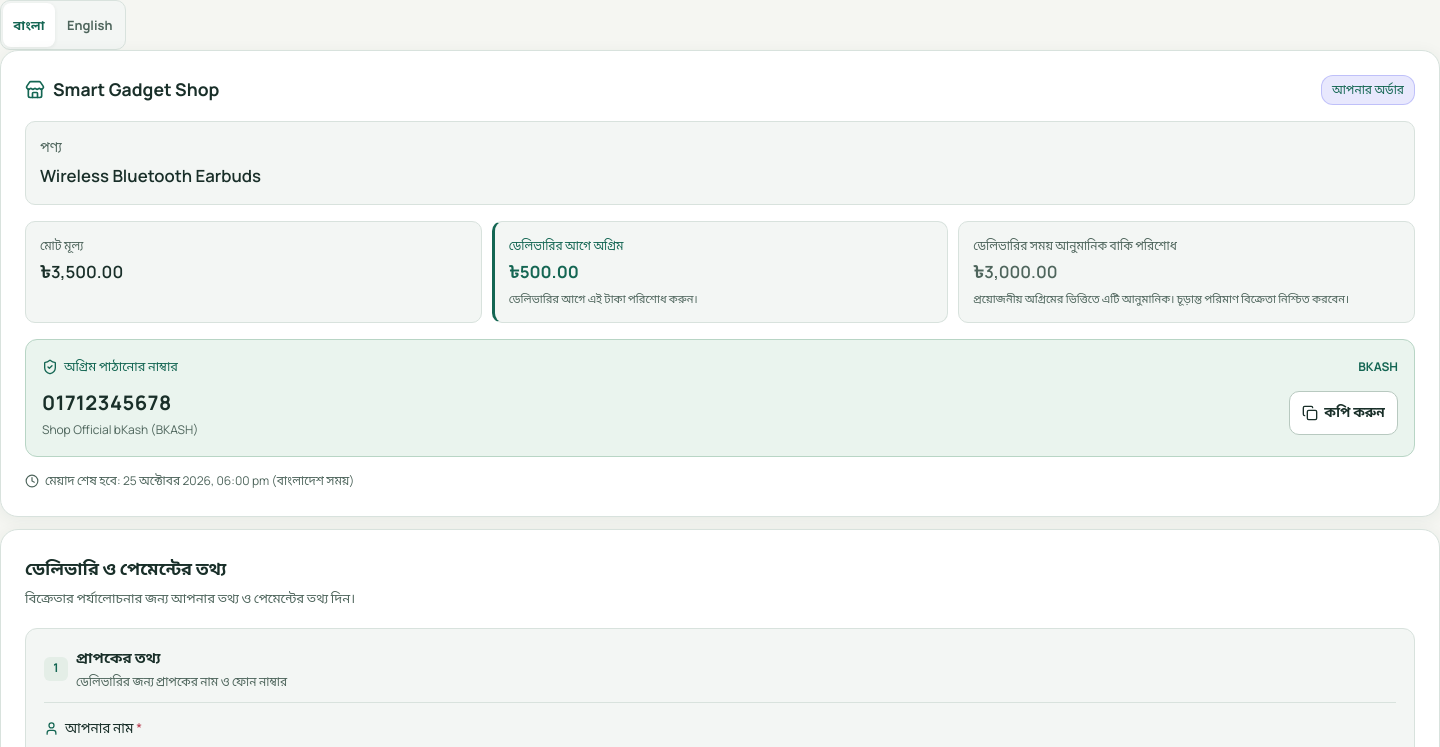
Test: Buyer order summary in Bengali › explains an unavailable copy action in Bengali
The image size is (1440, 747).
Step 1. Click the button with test id "copy-receiving-btn" → {"x": 1344, "y": 413}, box left=1289, top=391, right=1398, bottom=435
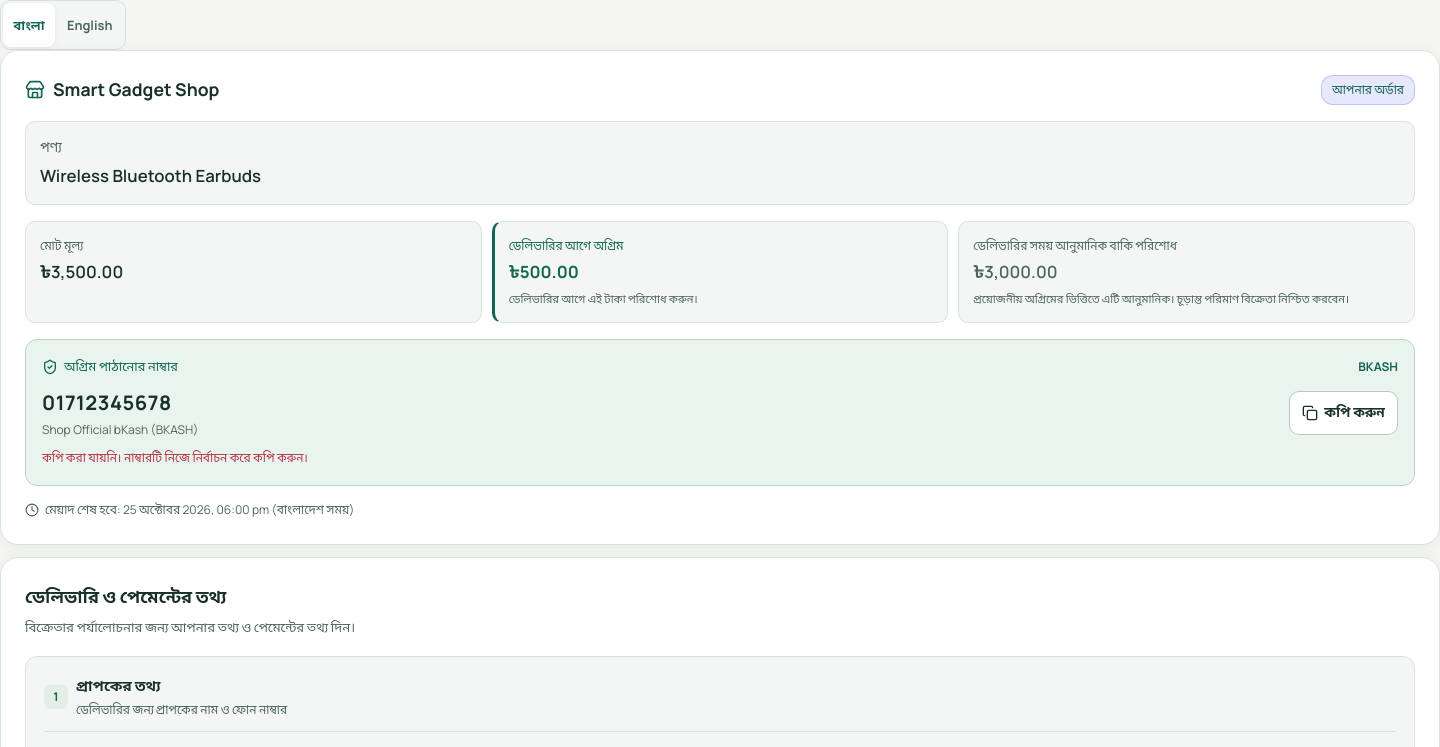
expect the text "কপি করা যায়নি। নাম্বারটি নিজে নির্বাচন করে কপি করুন।" is shown: met, box left=42, top=449, right=308, bottom=466
